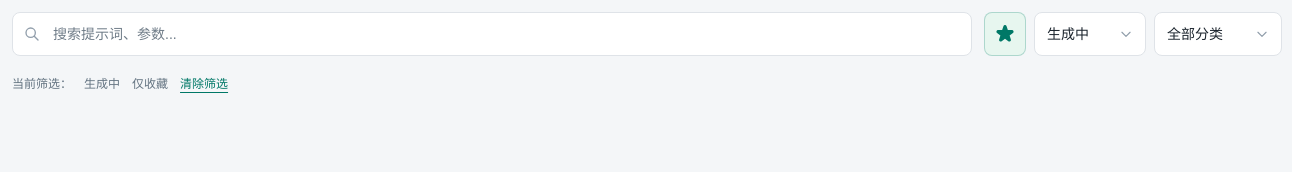
Test: SearchBar › 清除筛选会丢弃尚未提交的搜索草稿，原搜索为
This screenshot has width=1292, height=172.
Step 1. Type "尚未防抖写入的搜索词" into the field named "搜索提示词和参数" → (492, 34), box top-left (12, 12), bottom-right (972, 56)
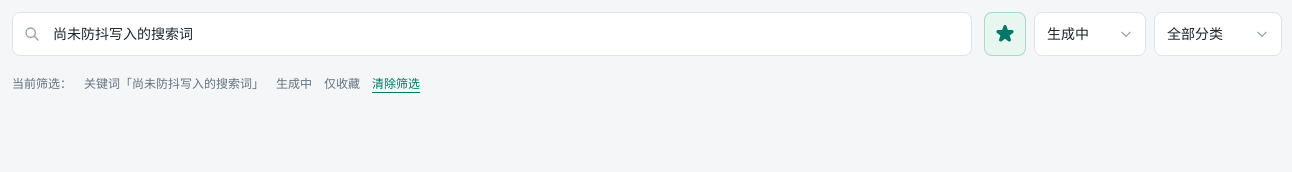
Step 2. Click the button "清除筛选" → (396, 84), box top-left (372, 68), bottom-right (420, 100)
Wait 500 ms
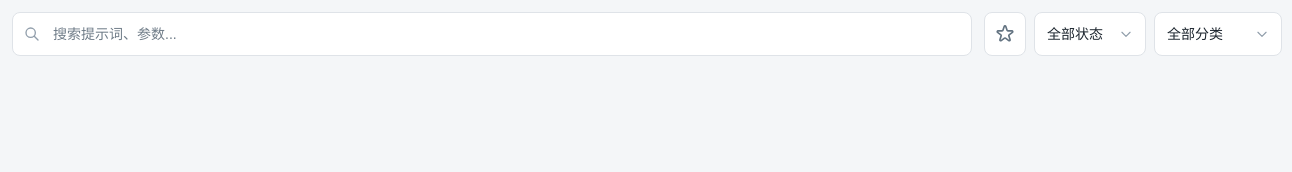
Expected: the field named "搜索提示词和参数" is empty, top-left (12, 12), bottom-right (972, 56)
Expected: the button "清除筛选" is gone
